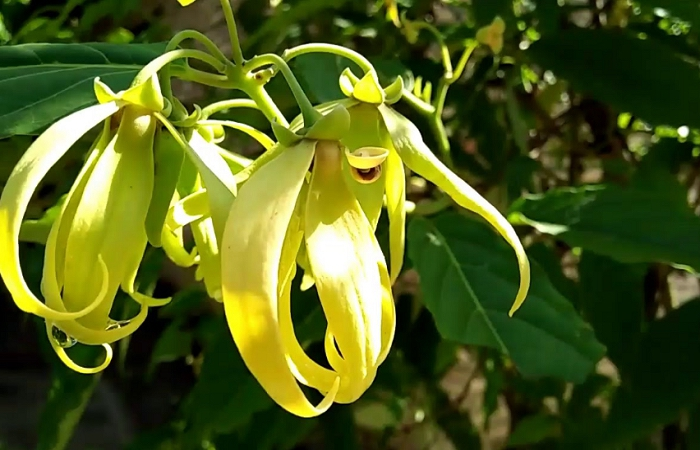ylang-ylang: (237, 89, 437, 367), (57, 47, 187, 359)
